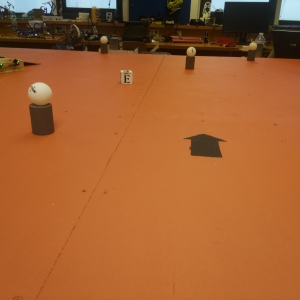obstacle: (28, 82, 57, 143), (185, 47, 197, 72), (100, 36, 110, 56), (248, 43, 256, 63)
side: (1, 60, 25, 74)
slope: (23, 58, 42, 65)
